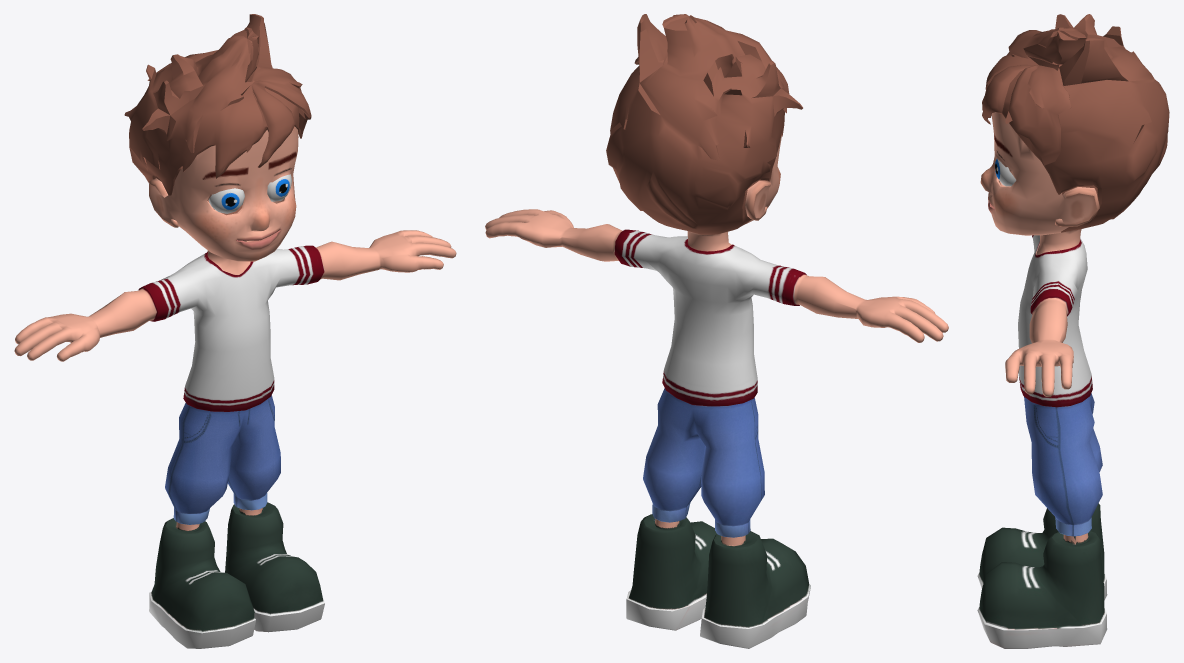
File: uploads_files_3358172_Pière.fbx
3 renders of one model, left to right at view 1: azimuth 30°, elevation 25°; view 2: azimuth 150°, elevation 25°; view 3: azimuth 270°, elevation 25°, orthographic. The views are drawn at different scales.
Bounding box in the file's own units: 742 × 938 × 272.
2 materials, 2 textured.
